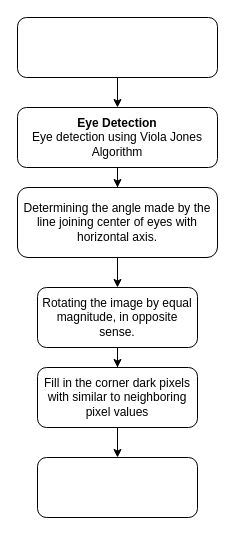
Some shapes in this 235 by 535 pixel diagram are drawn without their labels. The shapes that lost their labels are listed below. From the top down, each one's centre as x and y in pixels, then its label:
At [117,47]: "Input Face Cropped Images".
At [117,487]: "Output Aligned Faces".
